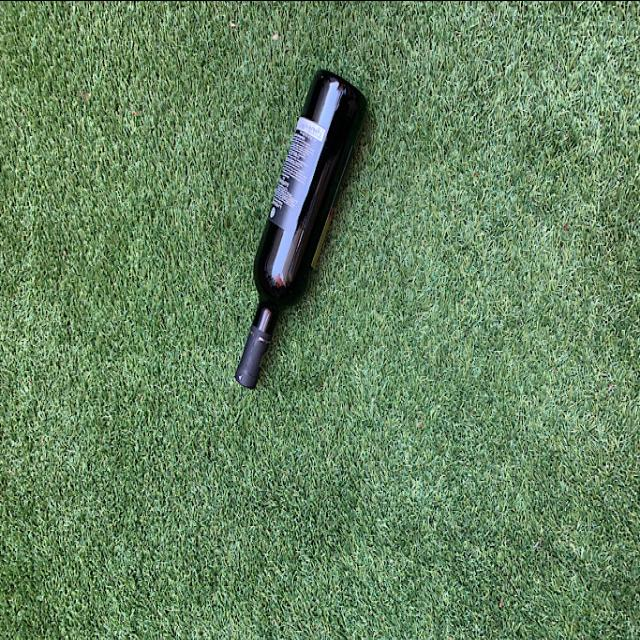litter: (224, 64, 369, 398)
